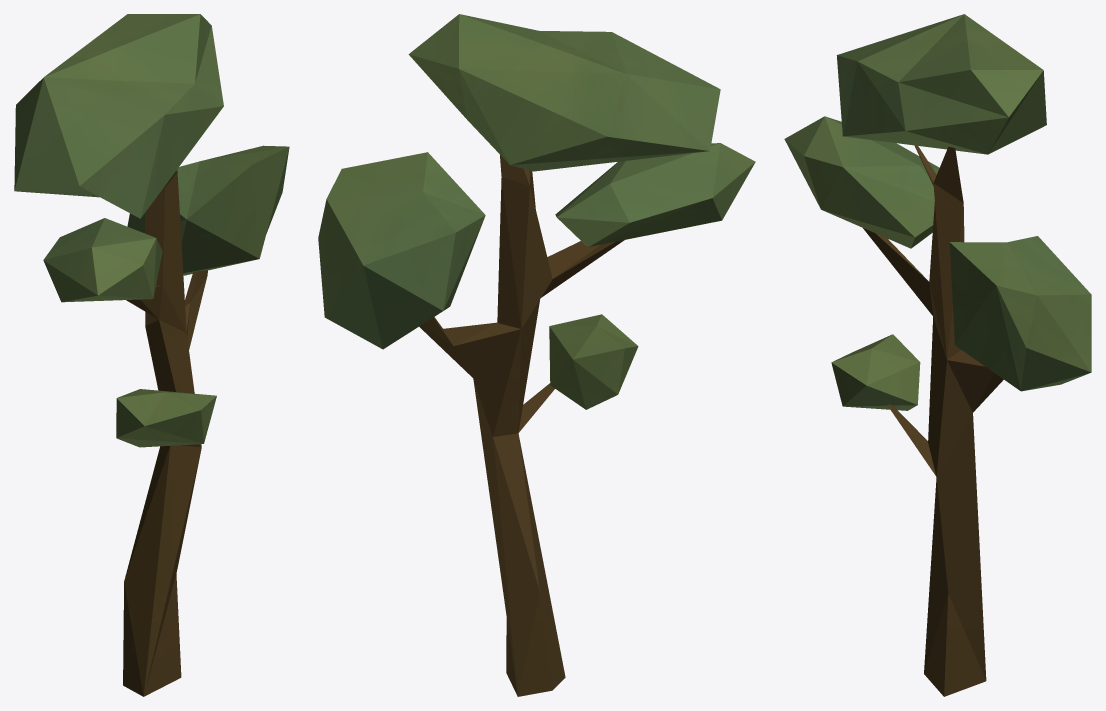
Rendered from Tree1LOD.fbx.
3 views of the same model, side by side, from view 1: azimuth 30°, elevation 25°; view 2: azimuth 150°, elevation 25°; view 3: azimuth 270°, elevation 25° (orthographic). The views are drawn at different scales.
Visible parts, largest first — view 1: Tree1LOD1; view 2: Tree1LOD1; view 3: Tree1LOD1.
Boxes of the visible parts, x1,y1,x2,y2 form: Tree1LOD1: (14, 14, 289, 696); Tree1LOD1: (318, 14, 755, 696); Tree1LOD1: (784, 14, 1091, 696).
Size of the model in its own units: 4.81 by 9.13 by 3.95.
